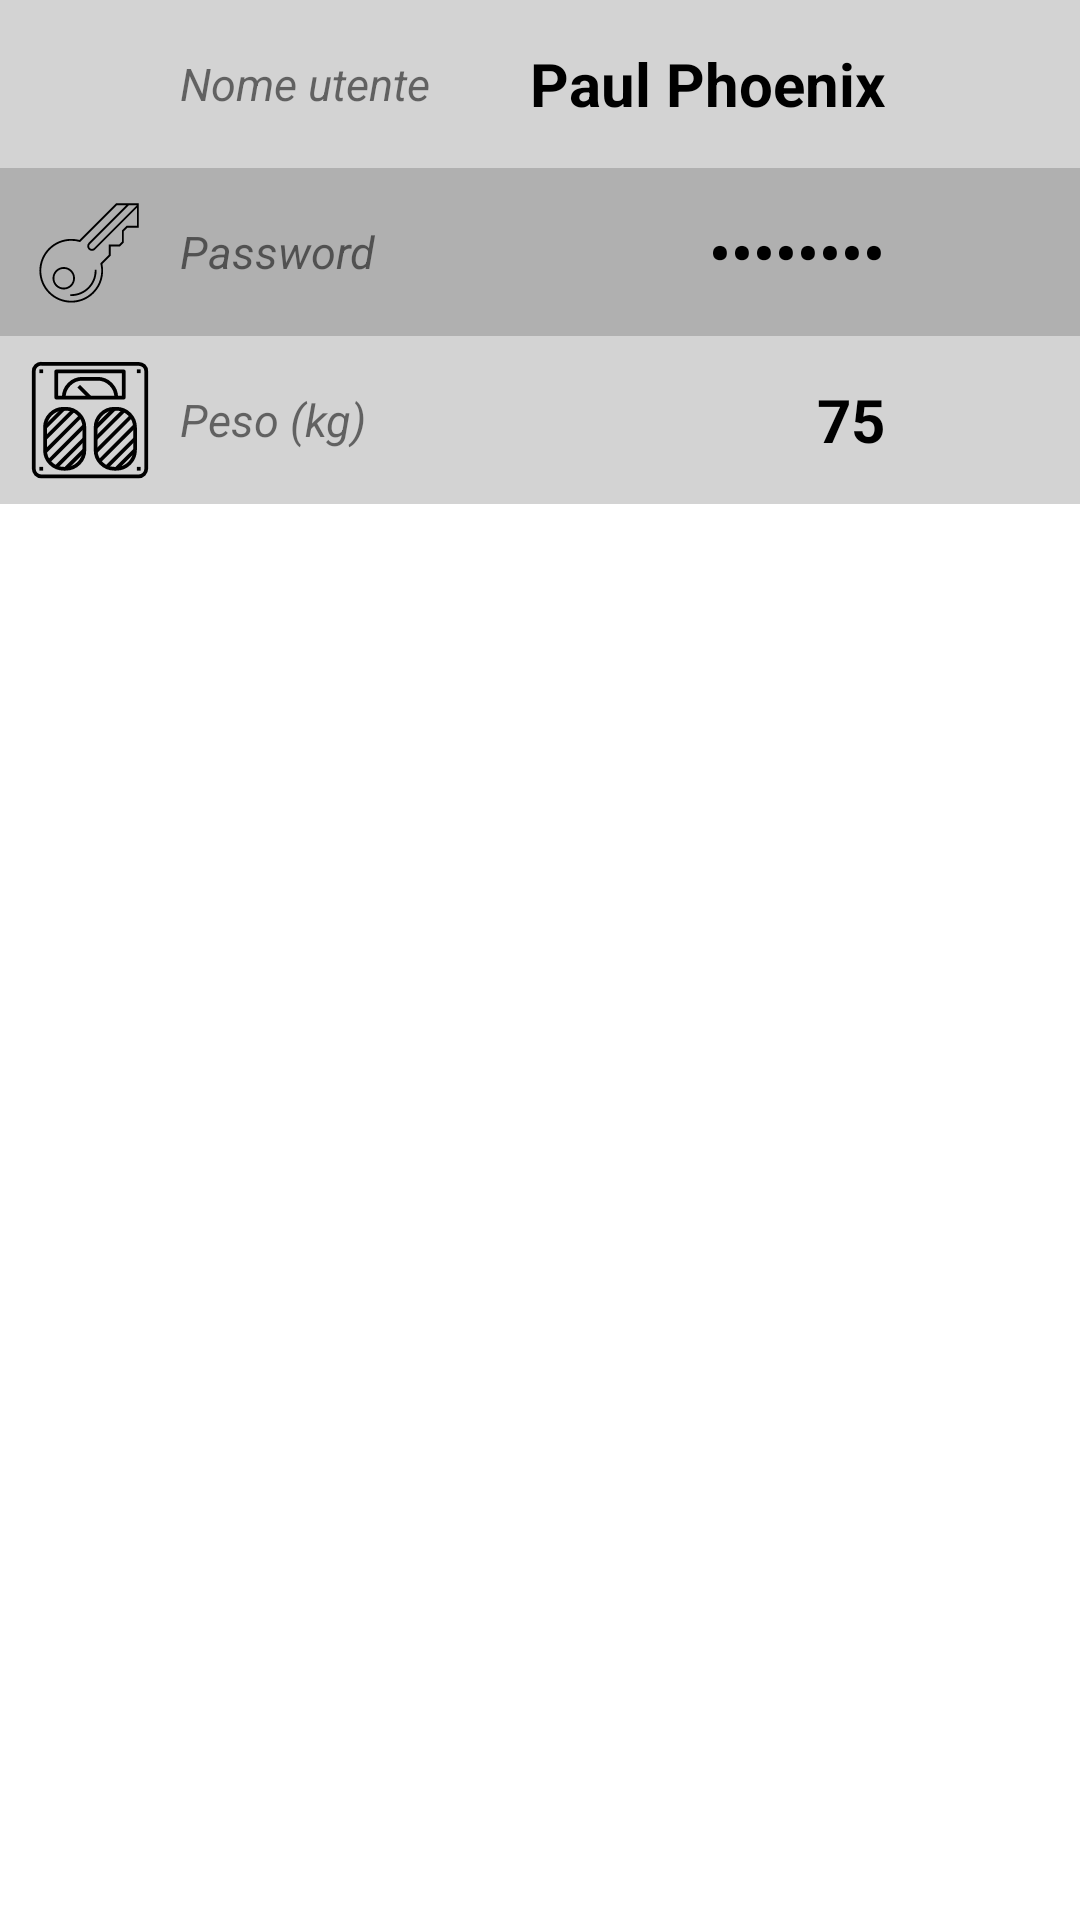

Named icons in this screenshot (1080w x 1920h) and their bounding boxes, box(x1, y1, x2, y2):
weight: box(31, 362, 149, 479)
